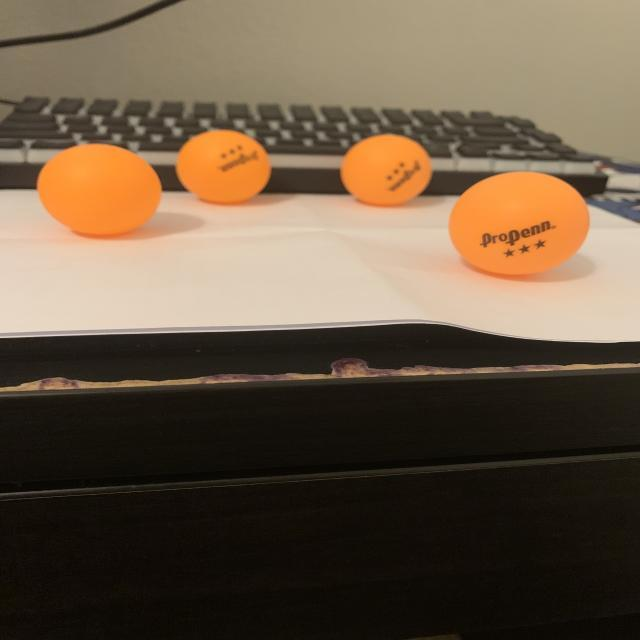ping-pong-ball: (440, 165, 601, 280), (32, 140, 166, 242), (172, 125, 279, 208), (338, 128, 436, 208)
